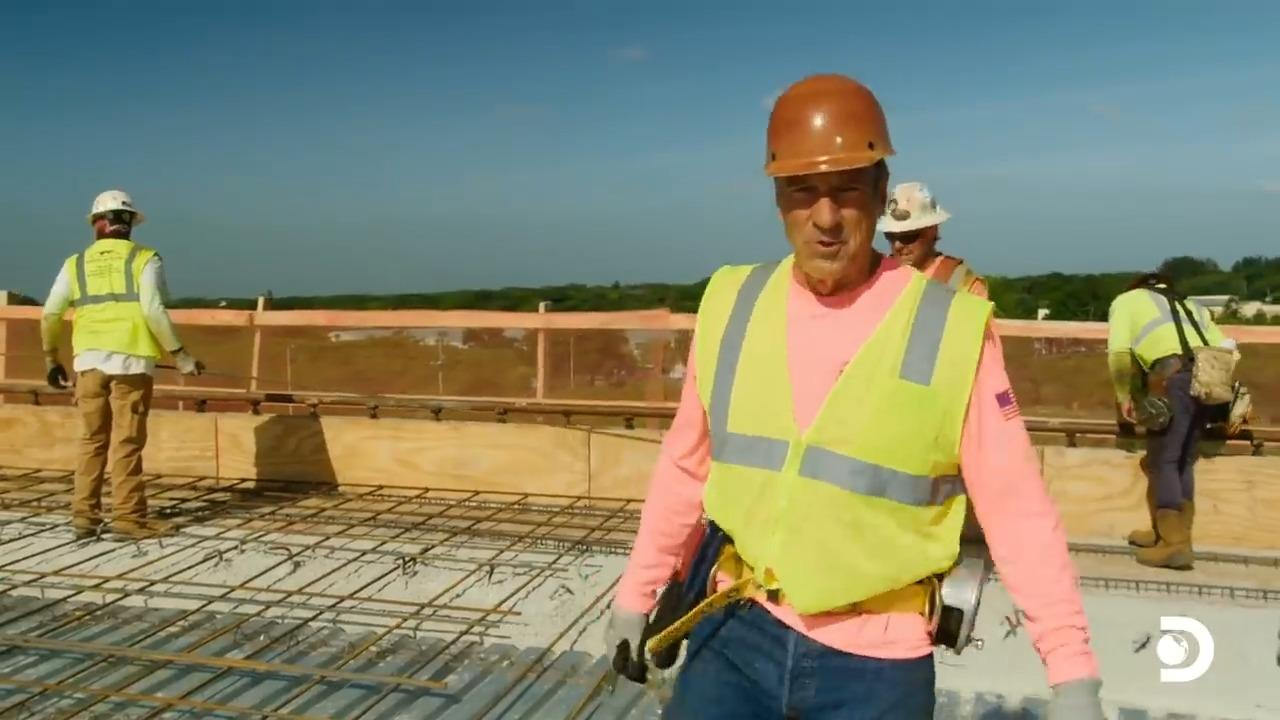Gloves: (605, 615, 672, 683), (172, 343, 202, 379), (41, 358, 71, 389)
Helmet: (763, 72, 895, 177), (875, 180, 950, 233), (87, 189, 143, 225)
Person: (603, 72, 1109, 719), (39, 188, 205, 541), (1106, 268, 1240, 570), (875, 180, 989, 301)
Safety Boot: (1138, 511, 1191, 565), (115, 518, 185, 545), (64, 511, 103, 541)
Safety Vest: (711, 279, 957, 565), (64, 262, 156, 360), (1129, 295, 1198, 364)
